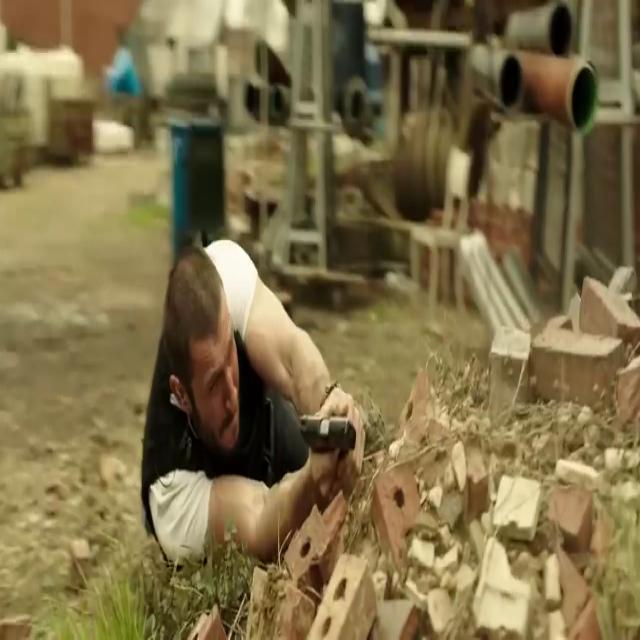Weapon: (291, 387, 358, 493)
